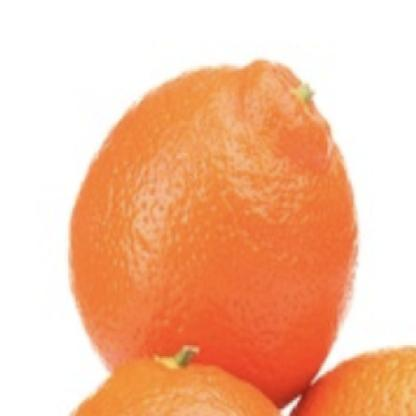fresh: (68, 54, 357, 416)
